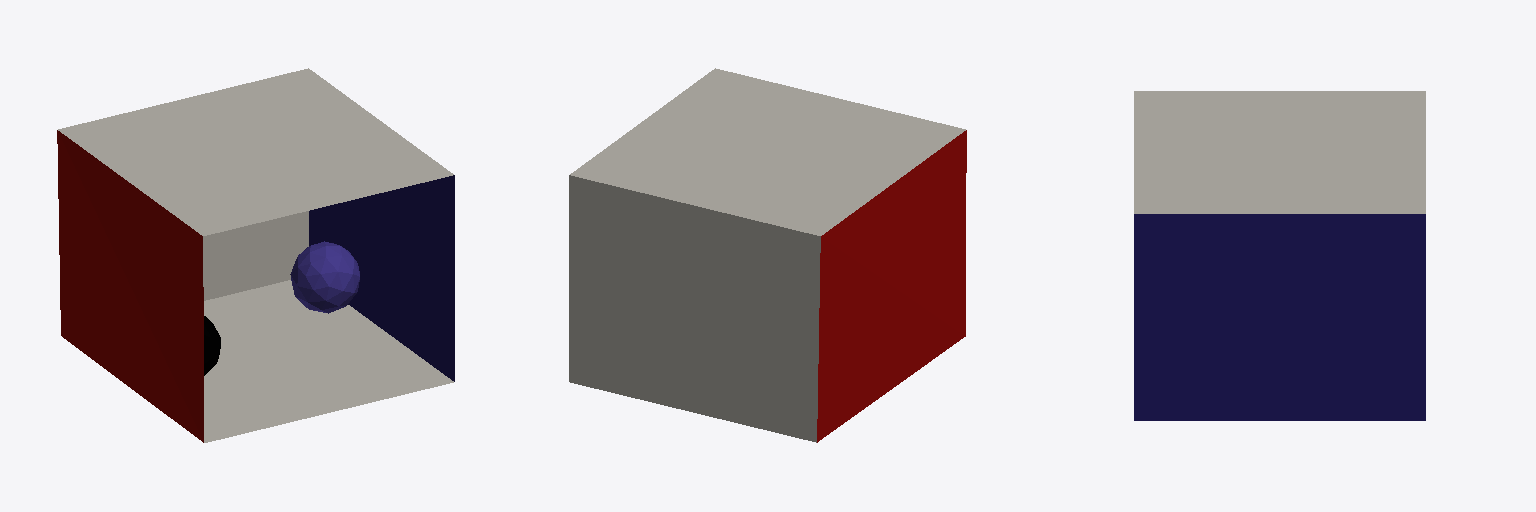
File: CornellBox-Sphere-698.obj
3 renders of one model, left to right at view 1: azimuth 30°, elevation 25°; view 2: azimuth 150°, elevation 25°; view 3: azimuth 270°, elevation 25°, orthographic.
Visible parts, largest first — view 1: ceiling, leftWall, floor, rightWall, backWall, leftSphere, rightSphere; view 2: backWall, ceiling, leftWall; view 3: rightWall, ceiling.
Boxes of the visible parts, x1,y1,x2,y2 form: ceiling: [58, 68, 453, 235]; leftWall: [57, 130, 203, 442]; floor: [204, 280, 453, 442]; rightWall: [309, 175, 454, 381]; backWall: [203, 211, 308, 300]; leftSphere: [290, 241, 359, 313]; rightSphere: [204, 316, 220, 375]; backWall: [569, 175, 820, 442]; ceiling: [570, 68, 965, 235]; leftWall: [817, 130, 966, 442]; rightWall: [1134, 214, 1425, 420]; ceiling: [1134, 91, 1425, 213].
Bounding box in the file's own units: 2.02 × 1.59 × 2.03.